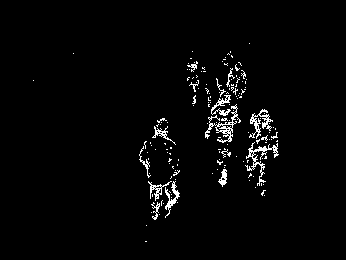person: (139, 117, 182, 219), (205, 94, 240, 187), (246, 110, 278, 198)
